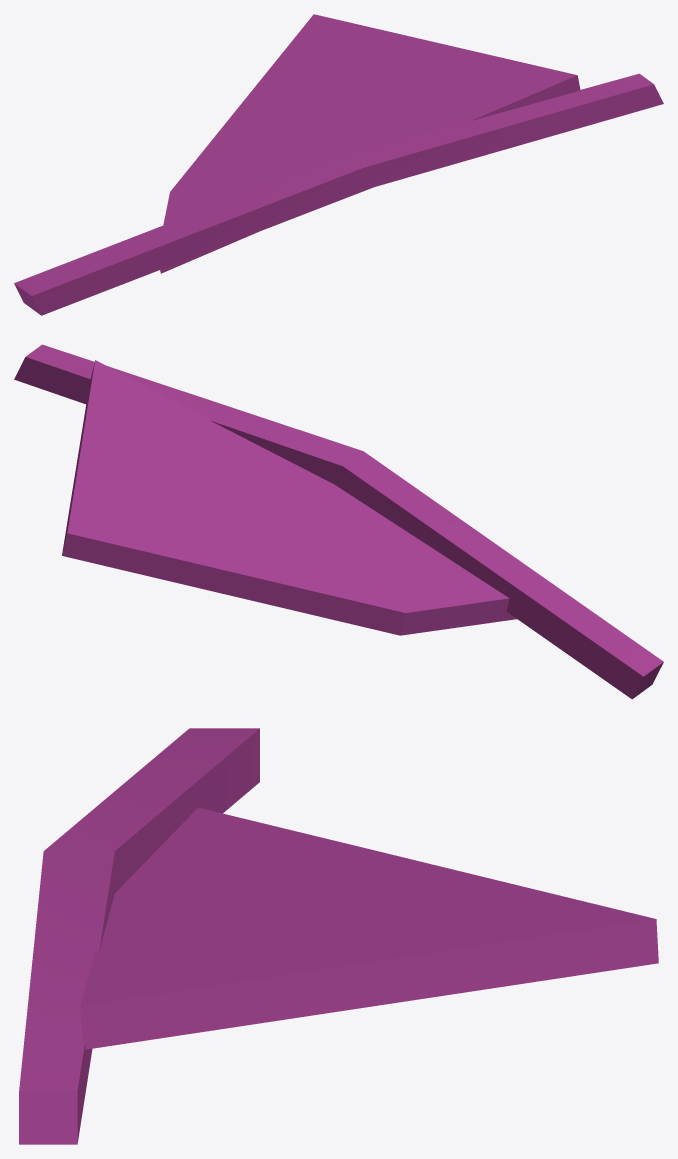
Rendered from SM_Veh_War_Balloon_01_Oar_R_Collision.fbx.
The picture shows the model from 3 angles, top to bottom: view 1: azimuth 30°, elevation 25°; view 2: azimuth 150°, elevation 25°; view 3: azimuth 270°, elevation 25°; orthographic projection. The views are drawn at different scales.
Visible parts, largest first — view 1: SM_Veh_War_Balloon_01_Oar_R_Collision; view 2: SM_Veh_War_Balloon_01_Oar_R_Collision; view 3: SM_Veh_War_Balloon_01_Oar_R_Collision.
Boxes of the visible parts, x1,y1,x2,y2 form: SM_Veh_War_Balloon_01_Oar_R_Collision: [14, 14, 663, 315]; SM_Veh_War_Balloon_01_Oar_R_Collision: [14, 344, 663, 699]; SM_Veh_War_Balloon_01_Oar_R_Collision: [19, 728, 658, 1144].
Bounding box in the file's own units: 440 × 97.25 × 207.
